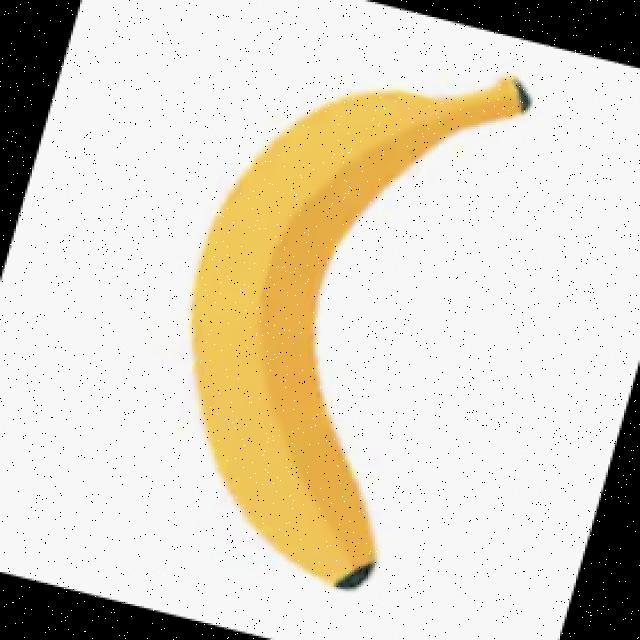god quality banana: (191, 79, 527, 590)
